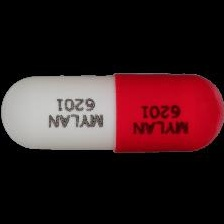54868-2211: (0, 0, 224, 224)
